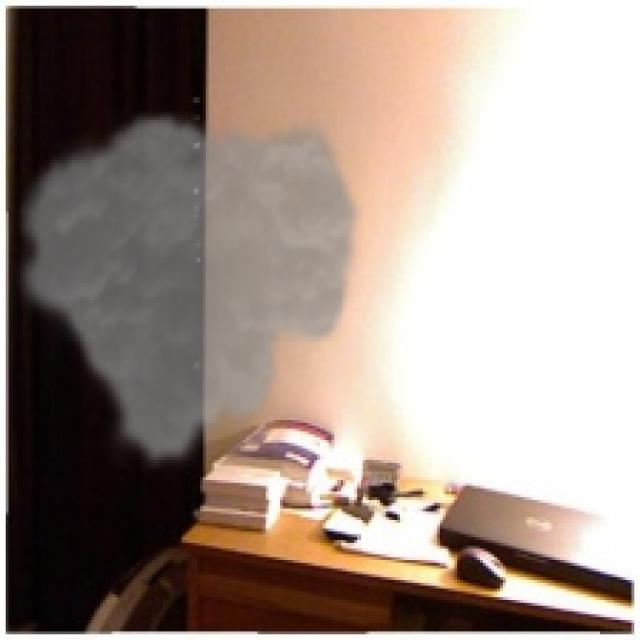smoke: (8, 109, 366, 474)
